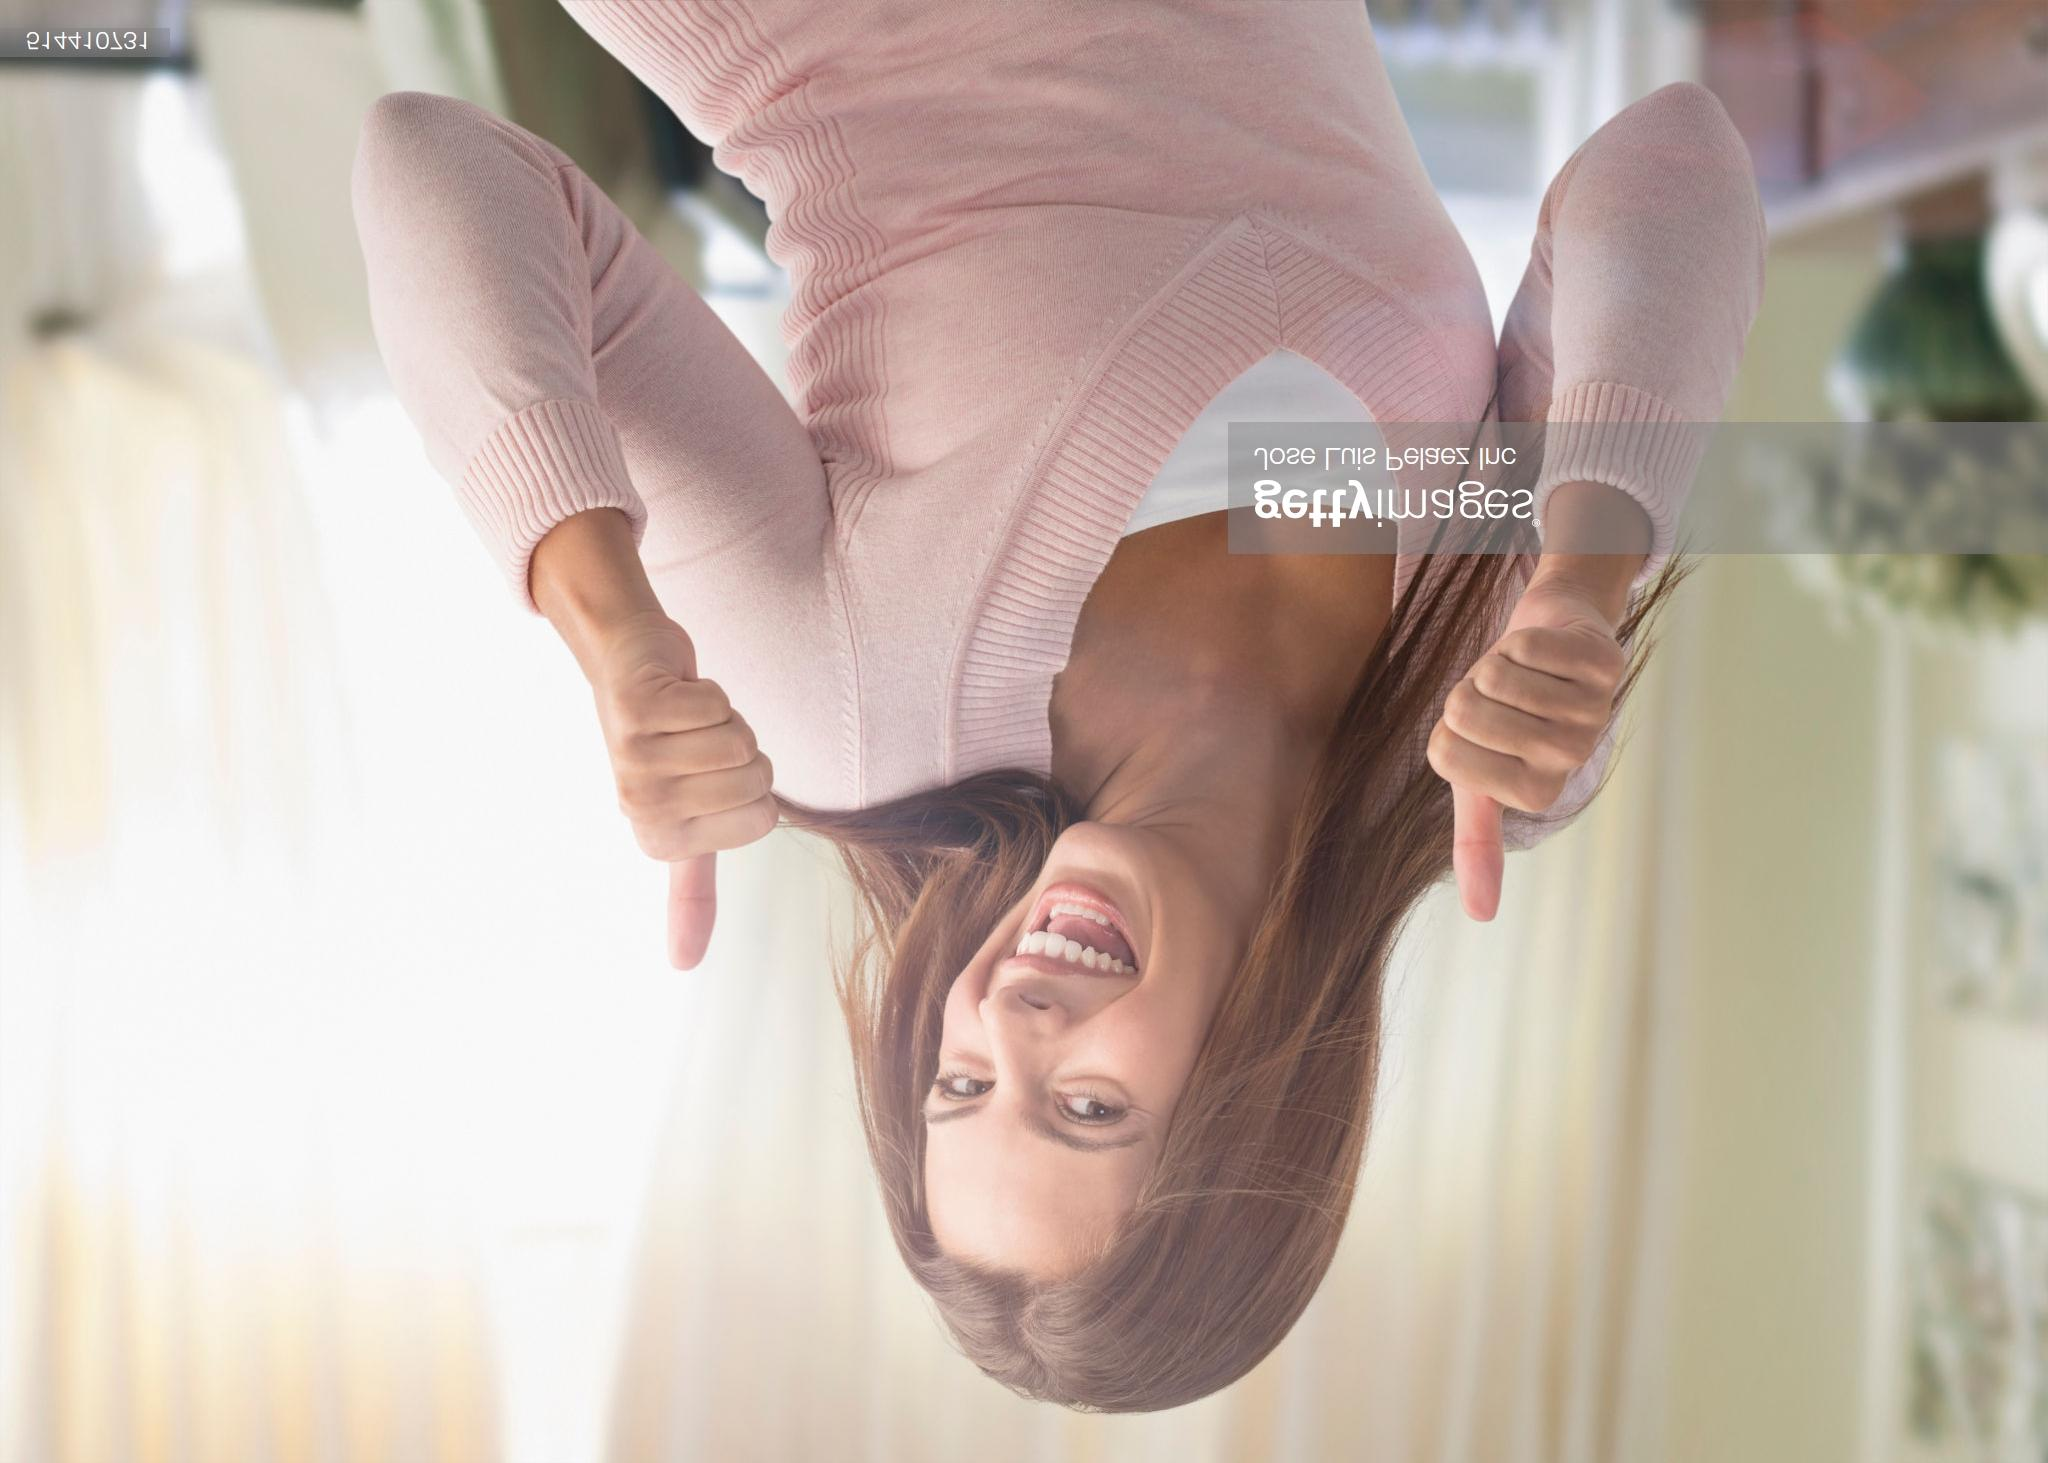thumbsdown: (1424, 625, 1624, 923), (601, 676, 779, 971)
